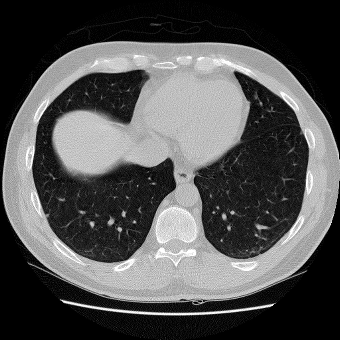nodule: (45, 213, 49, 217)
